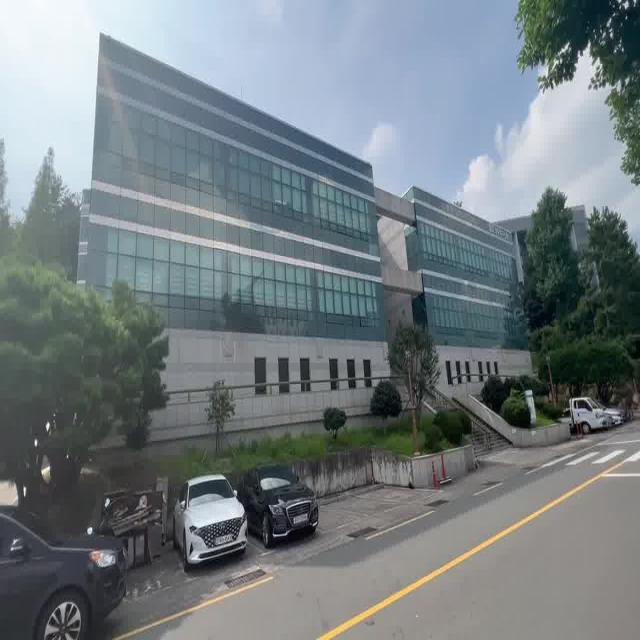building: (81, 67, 517, 386)
